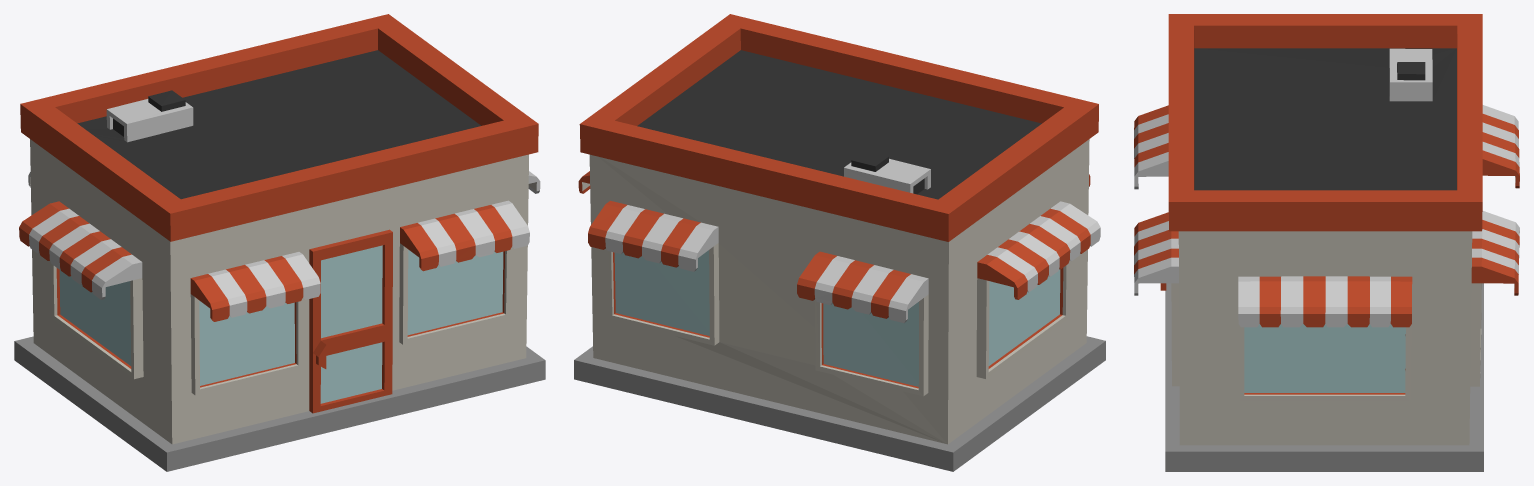
File: shop.glb
3 renders of one model, left to right at view 1: azimuth 30°, elevation 25°; view 2: azimuth 150°, elevation 25°; view 3: azimuth 270°, elevation 25°, orthographic. The views are drawn at different scales.
Size of the model in its own units: 2.48 by 1.39 by 1.8.
